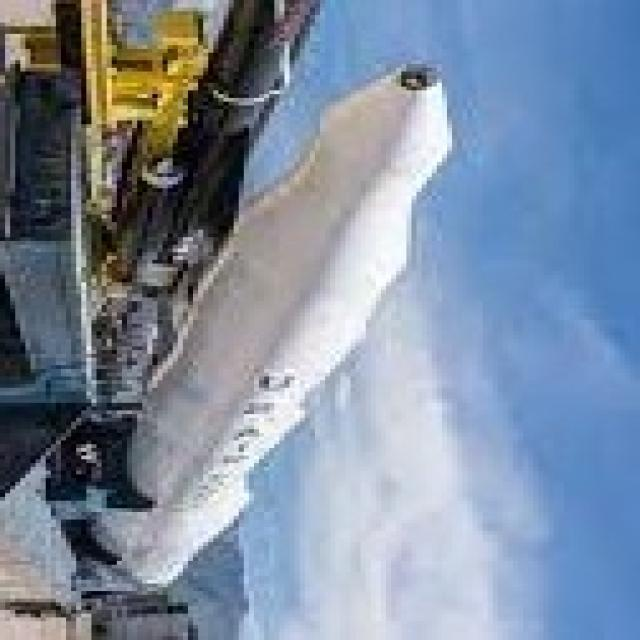missile: (81, 58, 448, 598)
